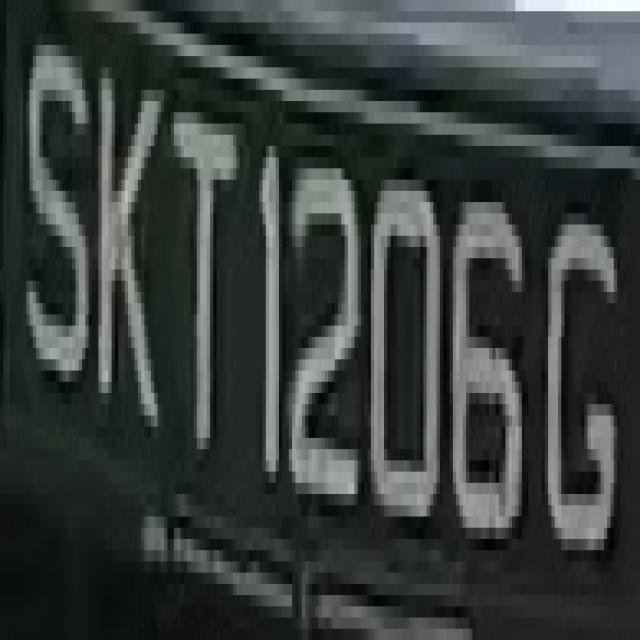0: (364, 135, 443, 550)
1: (259, 79, 292, 528)
2: (286, 112, 364, 539)
6: (440, 146, 525, 573)
G: (538, 158, 624, 606)
K: (86, 12, 168, 460)
S: (16, 33, 92, 370)
T: (161, 45, 253, 483)
